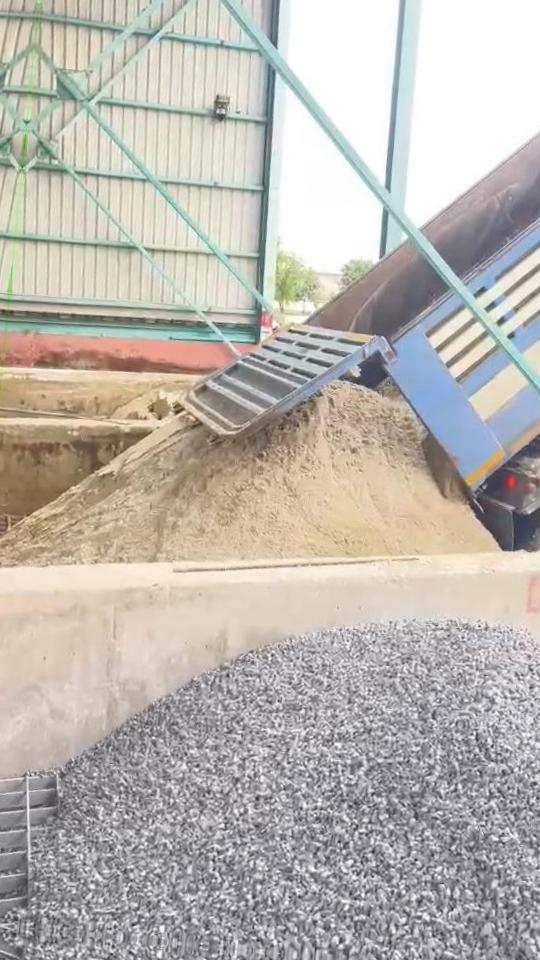gravel: (19, 621, 540, 960)
sand: (0, 382, 495, 566), (112, 386, 180, 421)
